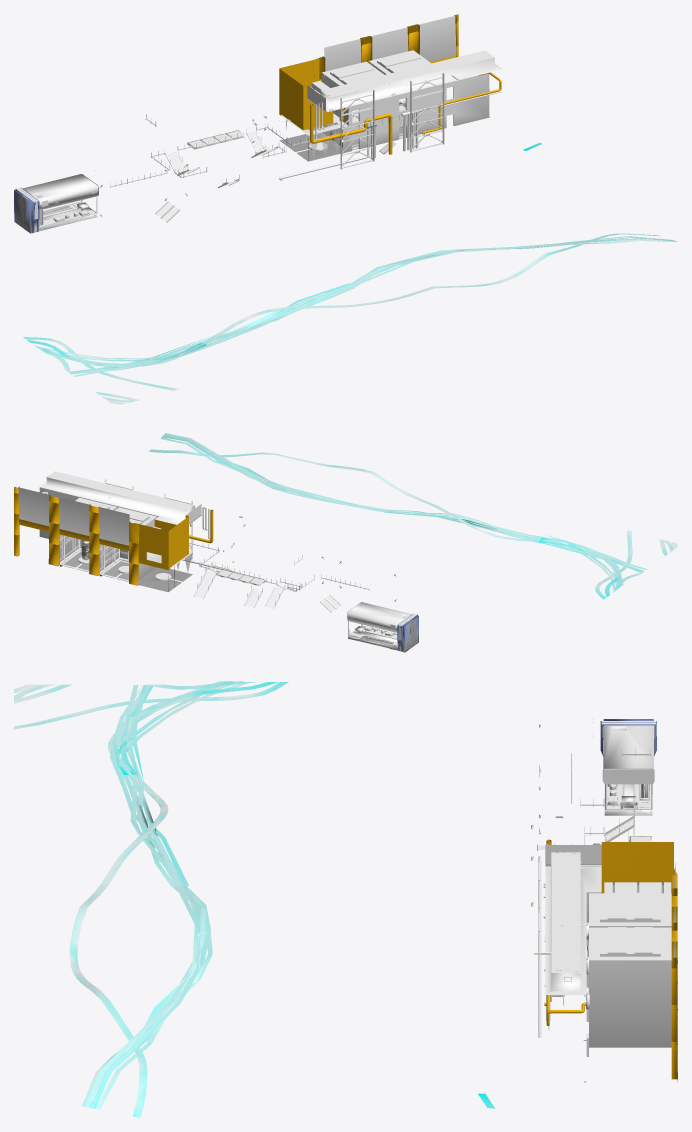
File: cell_87_58.fbx
The picture shows the model from 3 angles, top to bottom: view 1: azimuth 30°, elevation 25°; view 2: azimuth 150°, elevation 25°; view 3: azimuth 270°, elevation 25°; orthographic projection. The views are drawn at different scales.
Parts seen in each view (by area): view 1: SM_H_Building_FutureTech_PrintArea_InterWall_04.mo, SpaceCenter_Long3_GenerateRoad_Sand_TireTracks_Narrow_Mesh_. (×2), SM_H_Building_FutureTech_AutomaticWorkshop_01.mo, SpaceCenter_Long3_GenerateRoad_Sand_TireTracks_Width_Mesh_x. (×2), SM_H_Building_FutureTech_PrintArea_InterWall_01B.mo, SM_H_Building_FutureTech_PrintArea_InterWall_02.mo, SM_H_Building_FutureTech_PrintArea_ExterWall_01C.mo, SM_H_Building_FutureTech_PrintArea_InterWall_02.mo.001, SM_H_Building_FutureTech_PrintArea_ExterWall_01C.mo.003; view 2: SM_H_Building_FutureTech_PrintArea_InterWall_04.mo, SpaceCenter_Long3_GenerateRoad_Sand_TireTracks_Narrow_Mesh_. (×2), SM_H_Building_FutureTech_AutomaticWorkshop_01.mo, SpaceCenter_Long3_GenerateRoad_Sand_TireTracks_Width_Mesh_x. (×2), SM_H_Building_FutureTech_PrintArea_InterWall_02.mo, SM_H_Building_FutureTech_PrintArea_InterWall_02.mo.001, SM_H_Building_FutureTech_PrintArea_InterWall_01B.mo; view 3: SM_H_Building_FutureTech_PrintArea_InterWall_04.mo, SM_H_Building_FutureTech_PrintArea_InterWall_02.mo.001, SpaceCenter_Long3_GenerateRoad_Sand_TireTracks_Narrow_Mesh_. (×2), SpaceCenter_Long3_GenerateRoad_Sand_TireTracks_Width_Mesh_x. (×2), SM_H_Building_FutureTech_AutomaticWorkshop_01.mo, SM_H_Building_FutureTech_PrintArea_InterWall_02.mo, SM_H_Building_FutureTech_PrintArea_InterWall_03.mo.
Boxes of the visible parts, x1,y1,x2,y2 form: SM_H_Building_FutureTech_PrintArea_InterWall_04.mo: (279,14,502,161); SpaceCenter_Long3_GenerateRoad_Sand_TireTracks_Narrow_Mesh_. (×2): (38,236,677,376); SM_H_Building_FutureTech_AutomaticWorkshop_01.mo: (14,174,98,233); SpaceCenter_Long3_GenerateRoad_Sand_TireTracks_Width_Mesh_x. (×2): (23,142,660,404); SM_H_Building_FutureTech_PrintArea_InterWall_01B.mo: (279,72,501,180); SM_H_Building_FutureTech_PrintArea_InterWall_02.mo: (321,61,384,149); SM_H_Building_FutureTech_PrintArea_ExterWall_01C.mo: (410,73,444,152); SM_H_Building_FutureTech_PrintArea_InterWall_02.mo.001: (368,50,430,138); SM_H_Building_FutureTech_PrintArea_ExterWall_01C.mo.003: (340,90,374,169); SM_H_Building_FutureTech_PrintArea_InterWall_04.mo: (14,471,201,592); SpaceCenter_Long3_GenerateRoad_Sand_TireTracks_Narrow_Mesh_. (×2): (160,433,647,590); SM_H_Building_FutureTech_AutomaticWorkshop_01.mo: (347,602,418,652); SpaceCenter_Long3_GenerateRoad_Sand_TireTracks_Width_Mesh_x. (×2): (149,449,677,599); SM_H_Building_FutureTech_PrintArea_InterWall_02.mo: (99,507,157,581); SM_H_Building_FutureTech_PrintArea_InterWall_02.mo.001: (60,497,117,571); SM_H_Building_FutureTech_PrintArea_InterWall_01B.mo: (45,493,240,573); SM_H_Building_FutureTech_PrintArea_InterWall_04.mo: (545,842,677,1082); SM_H_Building_FutureTech_PrintArea_InterWall_02.mo.001: (589,927,671,1047); SpaceCenter_Long3_GenerateRoad_Sand_TireTracks_Narrow_Mesh_. (×2): (82,681,248,1109); SpaceCenter_Long3_GenerateRoad_Sand_TireTracks_Width_Mesh_x. (×2): (14,681,495,1117); SM_H_Building_FutureTech_AutomaticWorkshop_01.mo: (600,719,656,815); SM_H_Building_FutureTech_PrintArea_InterWall_02.mo: (589,892,671,927); SM_H_Building_FutureTech_PrintArea_InterWall_03.mo: (604,881,671,893).
Size of the model in its own units: 128 by 19.85 by 83.8.
